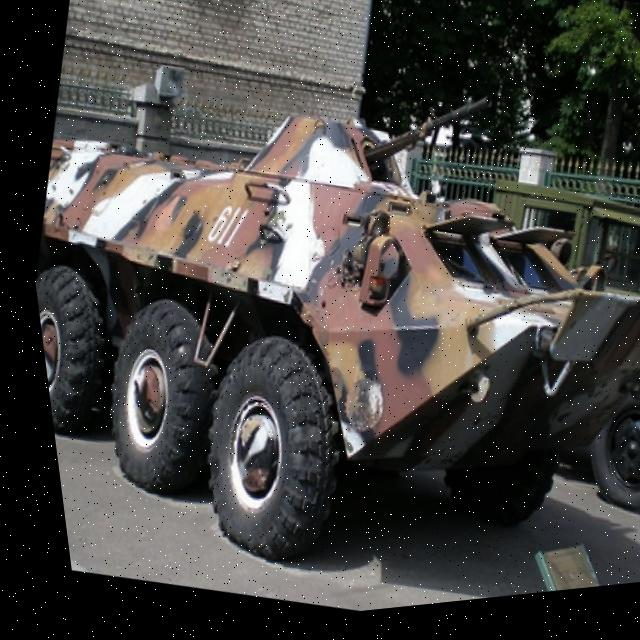MIL_APC: (3, 0, 640, 640)
